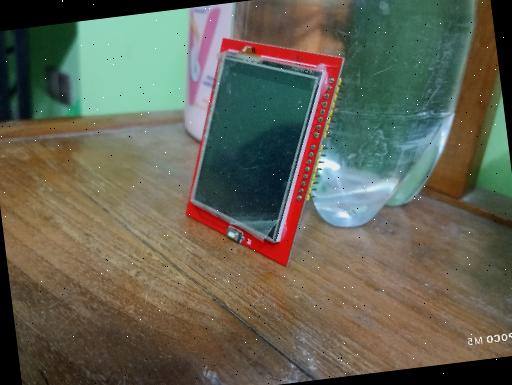Display: (163, 21, 371, 280)
